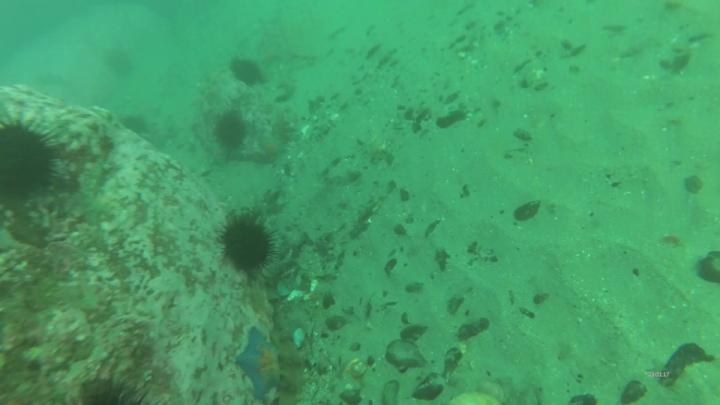echinus: (1, 126, 53, 201), (222, 220, 273, 271), (217, 112, 247, 151), (232, 59, 261, 86)
starfish: (235, 328, 283, 401), (259, 137, 287, 159)
